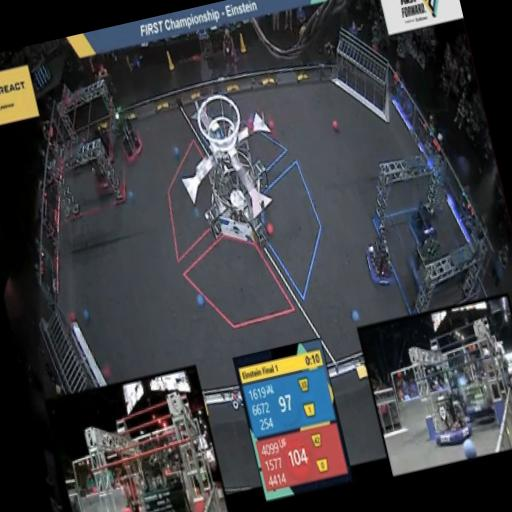robot: (402, 232, 448, 302), (106, 102, 150, 168), (400, 188, 446, 250), (85, 146, 127, 204), (358, 230, 398, 290), (73, 114, 116, 166)
